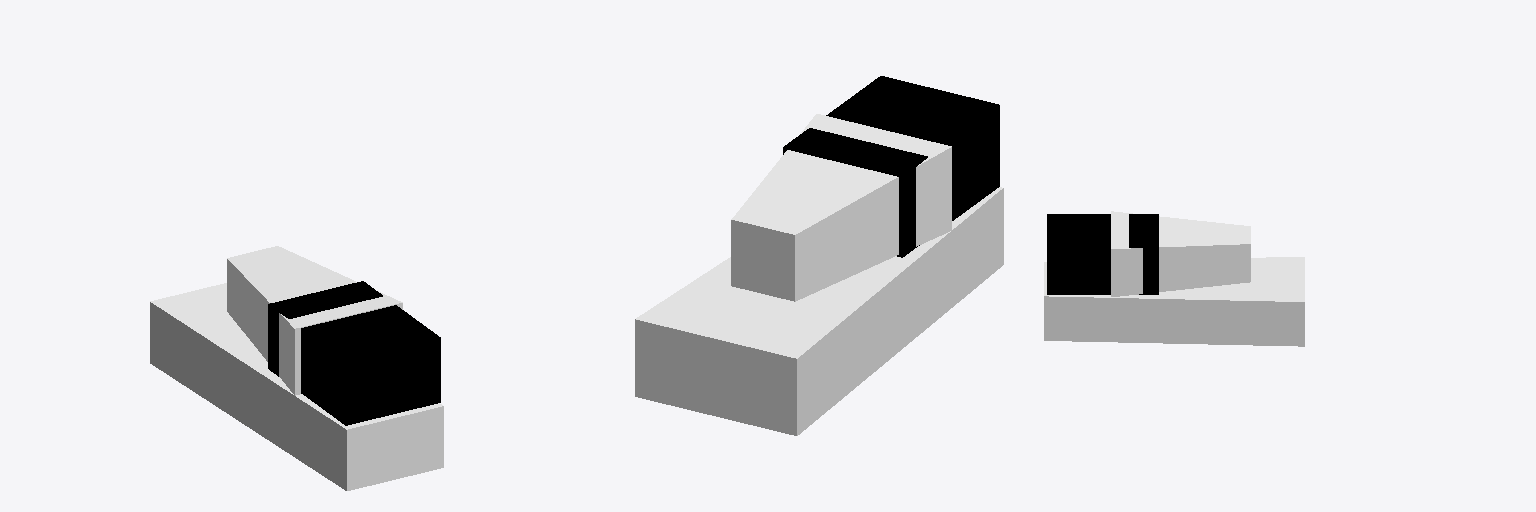
The robot description file, URDF, robot "new_2arms_model":
<?xml version= "1.0" ?>
<robot name ="new_2arms_model">

<link name = "isocenter">
	<inertial>
      <origin rpy="0 0 0" xyz="0 0 0"/>
      <mass value="0.0"/>
      <inertia ixx="1" ixy="0" ixz="0" iyy="1" iyz="0" izz="1"/>
    </inertial>
    <visual>
      <origin rpy="0 0 0" xyz="0 0 0"/>
      <geometry>
		<box size="0.001 0.001 0.001"/>
	</geometry>
		<material name="red">
        <color rgba="1 0 0 1"/>
      </material>
    </visual>
    <!--<collision>
      <origin rpy="0 0 0" xyz="0 0 0"/>
      <geometry>
         <box size="0.001 0.001 0.001"/>
      </geometry>
    </collision>-->
  </link>

  <joint name="base" type="fixed">
    <parent link="isocenter"/>
    <child link="Base"/>
	<origin xyz="0.000000 -195.000000 -110.300003" rpy="0 0 0" />
	</joint>

<link name = "Base">
	<contact>
		<lateral_friction value="1.0"/>
		<rolling_friction value = "100"/>
		<contact_cfm value="0.0"/>
		<contact_erp value="1.0"/>
	</contact>
	<inertial>
		<origin rpy="0 0 0" xyz="0.000000 0 0"/>
		<mass value="0.0"/>
  		<inertia ixx = "1" ixy = "0" ixz = "0" iyy = "1" iyz = "0" izz = "1"/>
	</inertial>
	<visual>
		<origin rpy="0 0 0" xyz="0.000000 0 0"/>
		<geometry>
			<cylinder length="1" radius="5"/>
		</geometry>
		<material name="blue">
			<color rgba="0 0 1 1"/>
		</material>
	</visual>
</link>


<joint name="joint_Base_to_A1" type="revolute">
	<axis xyz="0 0 1"/>
	<limit effort="100000" lower="-3.14" upper="3.14" velocity="0.5"/>
  <dynamics damping="10000000" friction="10000000"/>
	<origin rpy = "0 0 0" xyz = "0.000000 0 0"/>
	<parent link="Base"/>
	<child link ="A1"/>
</joint>


<link name = "A1">
	<contact>
		<lateral_friction value="1.0"/>
		<rolling_friction value = "101"/>
		<contact_cfm value="0.0"/>
		<contact_erp value="1.0"/>
	</contact>
	<inertial>
		<origin rpy="0 0 0" xyz="0.000000 -55.000000 0.000000"/>
		<mass value="1.0"/>
  		<inertia ixx = "1" ixy = "0" ixz = "0" iyy = "1" iyz = "0" izz = "1"/>
	</inertial>
	<visual>
		<origin rpy="0 0 0" xyz="0.000000 -55.000000 0.000000"/>
		<geometry>
			<mesh filename="leoni_0.obj" scale="1 1 1"/>
		</geometry>
		<material name="white">
			<color rgba="1 1 1 1"/>
		</material>
	</visual>
	<collision>
		<origin rpy="0 0 0" xyz="0.000000 -55.000000 0.000000"/>
		<geometry>
			<mesh filename="leoni_0.obj" scale="1 1 1"/>
		</geometry>
	</collision>
</link>


<joint name="joint_A1_to_A2" type="revolute">
	<axis xyz="0 0 1"/>
	<limit effort="100000" lower="-3.14" upper="3.14" velocity="0.5"/>
  <dynamics damping="10000000" friction="10000000"/>
	<origin rpy = "0 0 0" xyz = "0.000000 -119.500000 38.299999"/>
	<parent link="A1"/>
	<child link ="A2"/>
</joint>


<link name = "A2">
	<contact>
		<lateral_friction value="1.0"/>
		<rolling_friction value = "102"/>
		<contact_cfm value="0.0"/>
		<contact_erp value="1.0"/>
	</contact>
	<inertial>
		<origin rpy="0 0 0" xyz="0.000000 12.000000 0.000000"/>
		<mass value="1.0"/>
		<inertia ixx = "1" ixy = "0" ixz = "0" iyy = "1" iyz = "0" izz = "1"/>
	</inertial>
	<visual>
		<origin rpy="0 0 0" xyz="0.000000 12.000000 0.000000"/>
		<geometry>
			<box size ="58.000000 82.000000 38.000000"/>
		</geometry>
		<material name="black">
			<color rgba="0 0 0 1"/>
		</material>
	</visual>
	<collision>
		<origin rpy="0 0 0" xyz="0.000000 12.000000 0.000000"/>
		<geometry>
			<box size ="58.000000 82.000000 38.000000"/>
		</geometry>
	</collision>
</link>



  <joint name="joint_A2_to_A3" type="revolute">
    <axis xyz="1 0 0"/>
    <limit effort="100000" lower="-3.14" upper="3.14" velocity="0.5"/>
    <dynamics damping="10000000" friction="10000000"/>
    <origin rpy = "0 0 0" xyz = "0.000000 36.000000 0.000000"/>
    <parent link="A2"/>
    <child link ="A3"/>
  </joint>

  <link name = "A3">
    <contact>
      <lateral_friction value="1.0"/>
      <rolling_friction value = "103"/>
      <contact_cfm value="0.0"/>
      <contact_erp value="1.0"/>
    </contact>
    <inertial>
      <origin rpy="0 0 0" xyz="0.000000 31.129999 0.000000"/>
      <mass value="1.0"/>
      <inertia ixx = "1" ixy = "0" ixz = "0" iyy = "1" iyz = "0" izz = "1"/>
    </inertial>
    <visual>
      <origin rpy="0 0 0" xyz="0.000000 31.129999 0.000000"/>
      <geometry>
        <mesh filename="leoni_2.obj" scale="1 1 1"/>
      </geometry>
      <material name="white">
        <color rgba="1 1 1 1"/>
      </material>
    </visual>
    <collision>
      <origin rpy="0 0 0" xyz="0.000000 31.129999 0.000000"/>
      <geometry>
        <mesh filename="leoni_2.obj" scale="1 1 1"/>
      </geometry>
    </collision>
  </link>

</robot>

--- What the picture shows (computed from the rendered views, not written in the file) ---
The picture shows the robot from 3 angles, left to right: view 1: azimuth 30°, elevation 25°; view 2: azimuth 150°, elevation 25°; view 3: azimuth 270°, elevation 25°; orthographic projection.
Robot: new_2arms_model — 5 links, 4 joints (3 revolute, 1 fixed); root link isocenter; default pose: every joint at zero.
Links seen in each view (by area): view 1: A1, A2, A3; view 2: A1, A3, A2; view 3: A1, A3, A2.
Link boxes in pixels (box(x1,y1,x2,y2)): A1: box(150, 283, 443, 490); A2: box(268, 281, 440, 425); A3: box(227, 246, 402, 395); A1: box(635, 187, 1003, 435); A3: box(731, 114, 951, 301); A2: box(783, 76, 999, 257); A1: box(1044, 257, 1304, 346); A3: box(1111, 211, 1250, 296); A2: box(1047, 214, 1158, 294).
Size in the robot's own frame: 79 by 346 by 128 metres.
Meshes: 2 distinct files referenced, 2 mesh visuals loaded (2 OBJ).
